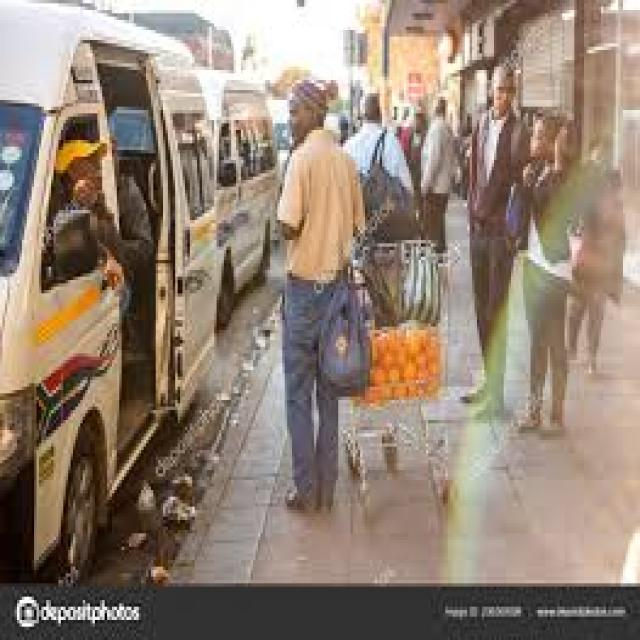MiniBus taxi: (2, 3, 216, 590)
